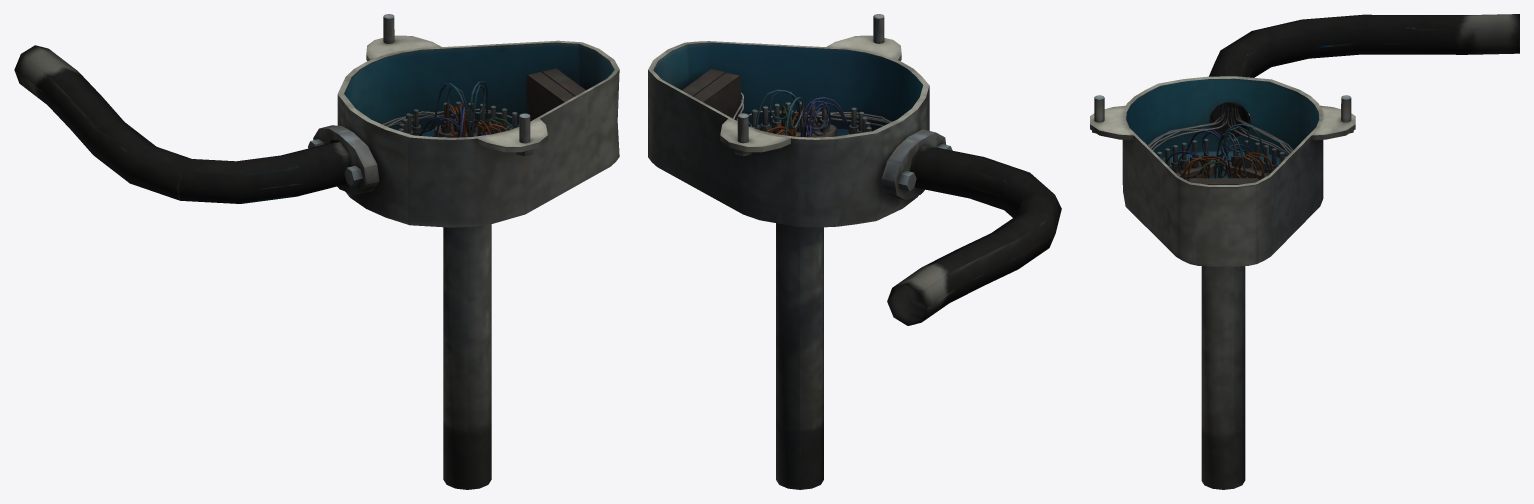
The model's file is mufta.fbx.
3 renders of one model, left to right at view 1: azimuth 30°, elevation 25°; view 2: azimuth 150°, elevation 25°; view 3: azimuth 270°, elevation 25°, orthographic. The views are drawn at different scales.
Parts seen in each view (by area): view 1: mufta_base; view 2: mufta_base; view 3: mufta_base.
Part boxes in pixels (x1,y1,x2,y2): mufta_base: (14, 14, 619, 489); mufta_base: (648, 14, 1061, 489); mufta_base: (1090, 14, 1519, 489).
Bounding box in the file's own units: 0.4731 × 0.4274 × 0.4397.
